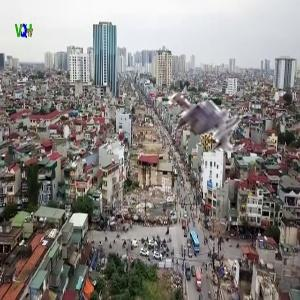drone: (146, 70, 253, 177)
